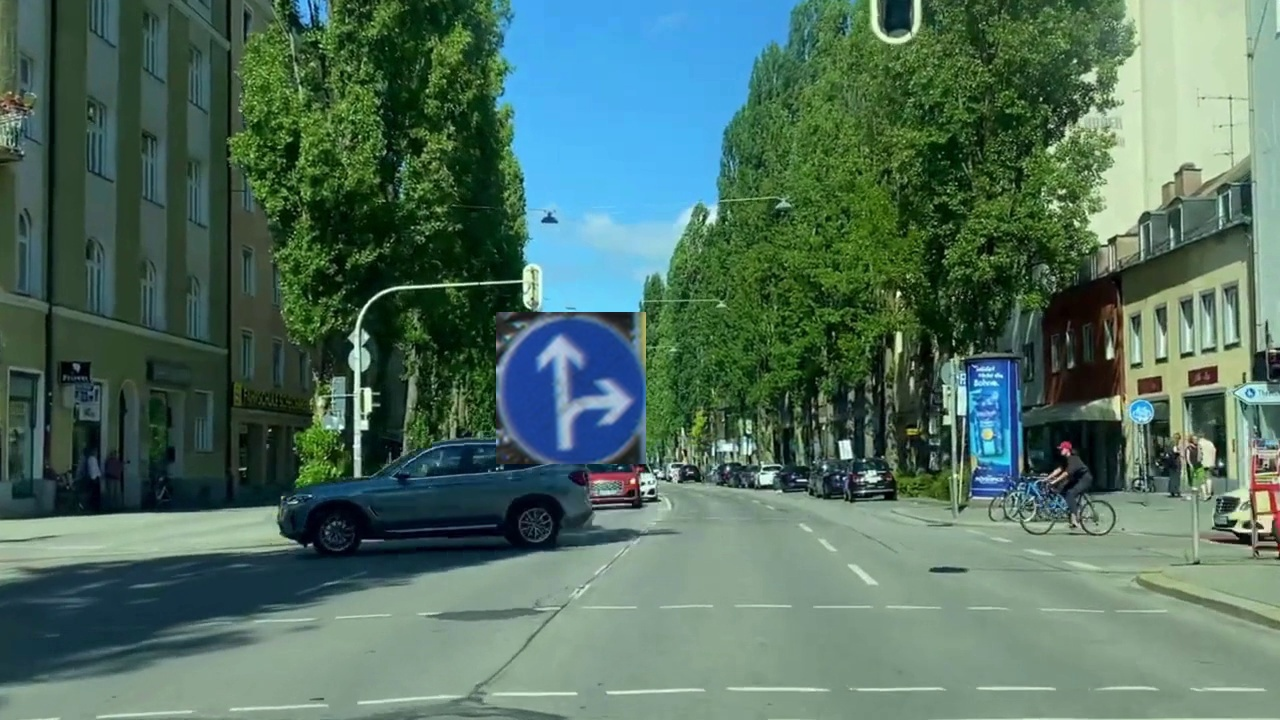Straight/right: (496, 312, 646, 464)
